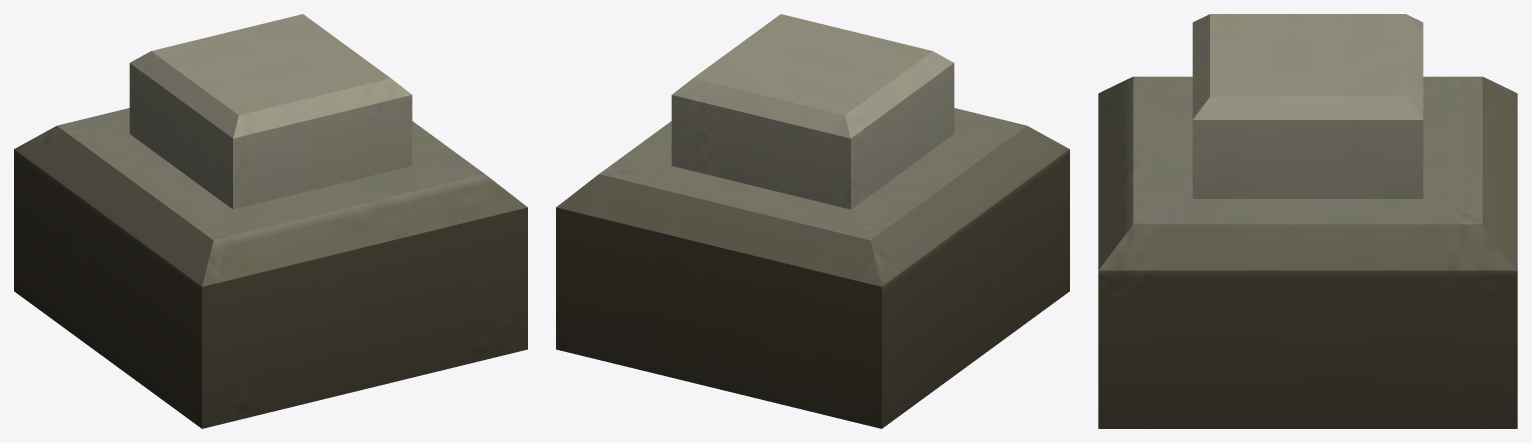
Rendered from radar.glb.
The picture shows the model from 3 angles, left to right: view 1: azimuth 30°, elevation 25°; view 2: azimuth 150°, elevation 25°; view 3: azimuth 270°, elevation 25°; orthographic projection. The views are drawn at different scales.
Visible parts, largest first — view 1: radar; view 2: radar; view 3: radar.
Boxes of the visible parts, box(x1,y1,x2,y2) form: radar: box(14, 14, 527, 428); radar: box(556, 14, 1069, 428); radar: box(1098, 14, 1517, 428).
Size of the model in its own units: 0.24 by 0.18 by 0.24.
Materials: 1 (1 with a texture image).
